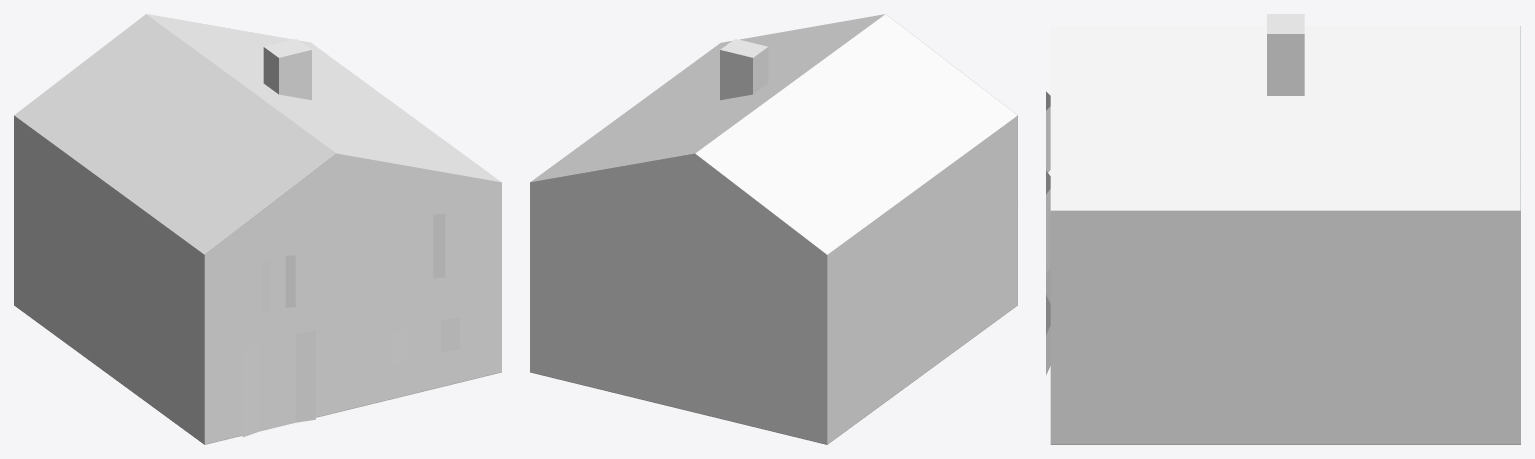
File: Beeyond_Farmhouse.fbx
3 views of the same model, side by side, from view 1: azimuth 30°, elevation 25°; view 2: azimuth 150°, elevation 25°; view 3: azimuth 270°, elevation 25° (orthographic). The views are drawn at different scales.
Visible parts, largest first — view 1: pPlane9; view 2: pPlane9; view 3: pPlane9.
Boxes of the visible parts, x1=… form: pPlane9: x1=14, y1=14, x2=501, y2=444; pPlane9: x1=530, y1=14, x2=1017, y2=444; pPlane9: x1=1046, y1=14, x2=1520, y2=444.
Bounding box in the file's own units: 900 × 820 × 1010.
